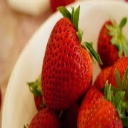strawberry: (37, 10, 96, 111), (76, 85, 126, 128), (94, 16, 128, 69)
